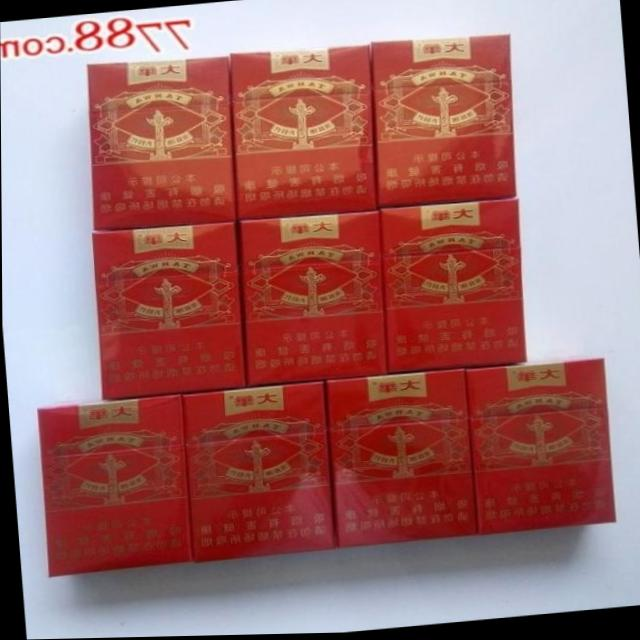box: (36, 394, 190, 578), (180, 381, 336, 562), (324, 367, 478, 549), (459, 358, 615, 535), (91, 222, 245, 399), (233, 211, 386, 387), (377, 199, 526, 376), (229, 43, 377, 220), (87, 57, 234, 230), (369, 37, 515, 209)
